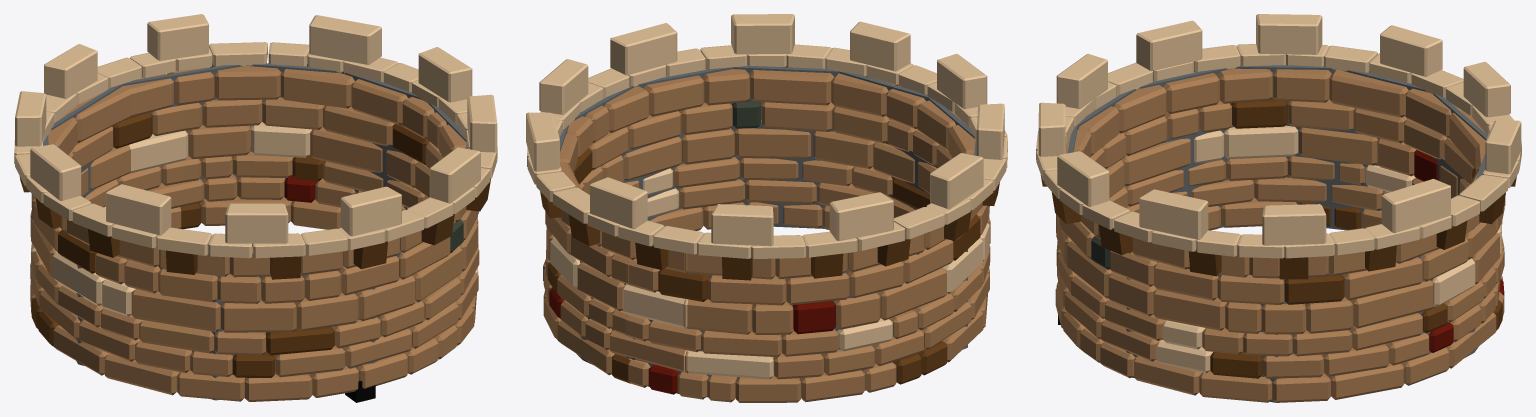
The model's file is top-section-with-crenellation-rb.glb.
3 views of the same model, side by side, from view 1: azimuth 30°, elevation 25°; view 2: azimuth 150°, elevation 25°; view 3: azimuth 270°, elevation 25° (orthographic).
Visible parts, largest first — view 1: main-wall.112, top-section-2.002, top-section-1.001, grout-wall.004, strut-1.001, strut-11.001, strut-8.001, strut-15.001, strut-12.001; view 2: main-wall.112, top-section-2.002, top-section-1.001, grout-wall.004, strut-6.001, strut-2.001, strut-16.001, strut-10.001, strut-9.001, strut-4.001; view 3: main-wall.112, top-section-2.002, top-section-1.001, grout-wall.004, strut-13.001, strut-5.001, strut-3.001, strut-14.001, strut-7.001, strut-12.001, strut-9.001.
Boxes of the visible parts, box(x1,y1,x2,y2) form: main-wall.112: box(30, 63, 479, 401); top-section-2.002: box(15, 14, 497, 243); top-section-1.001: box(14, 42, 497, 258); grout-wall.004: box(43, 63, 468, 400); strut-1.001: box(353, 241, 387, 269); strut-11.001: box(270, 256, 301, 279); strut-8.001: box(166, 250, 197, 274); strut-15.001: box(88, 229, 119, 257); strut-12.001: box(421, 214, 454, 245); main-wall.112: box(543, 69, 990, 402); top-section-2.002: box(526, 14, 1004, 246); top-section-1.001: box(527, 44, 1007, 258); grout-wall.004: box(559, 65, 976, 397); strut-6.001: box(811, 253, 843, 278); strut-2.001: box(635, 242, 668, 270); strut-16.001: box(722, 257, 752, 280); strut-10.001: box(877, 239, 910, 266); strut-9.001: box(568, 214, 599, 246); strut-4.001: box(944, 210, 971, 240); main-wall.112: box(1055, 68, 1505, 402); top-section-2.002: box(1038, 14, 1521, 245); top-section-1.001: box(1036, 44, 1521, 258); grout-wall.004: box(1067, 65, 1487, 402); strut-13.001: box(1188, 249, 1221, 276); strut-5.001: box(1099, 224, 1132, 255); strut-3.001: box(1279, 257, 1308, 279); strut-14.001: box(1365, 245, 1396, 271); strut-7.001: box(1436, 220, 1467, 249); strut-12.001: box(1051, 192, 1080, 224); strut-9.001: box(1479, 192, 1505, 224).
Size of the model in its own units: 2.15 by 1.01 by 2.16.
